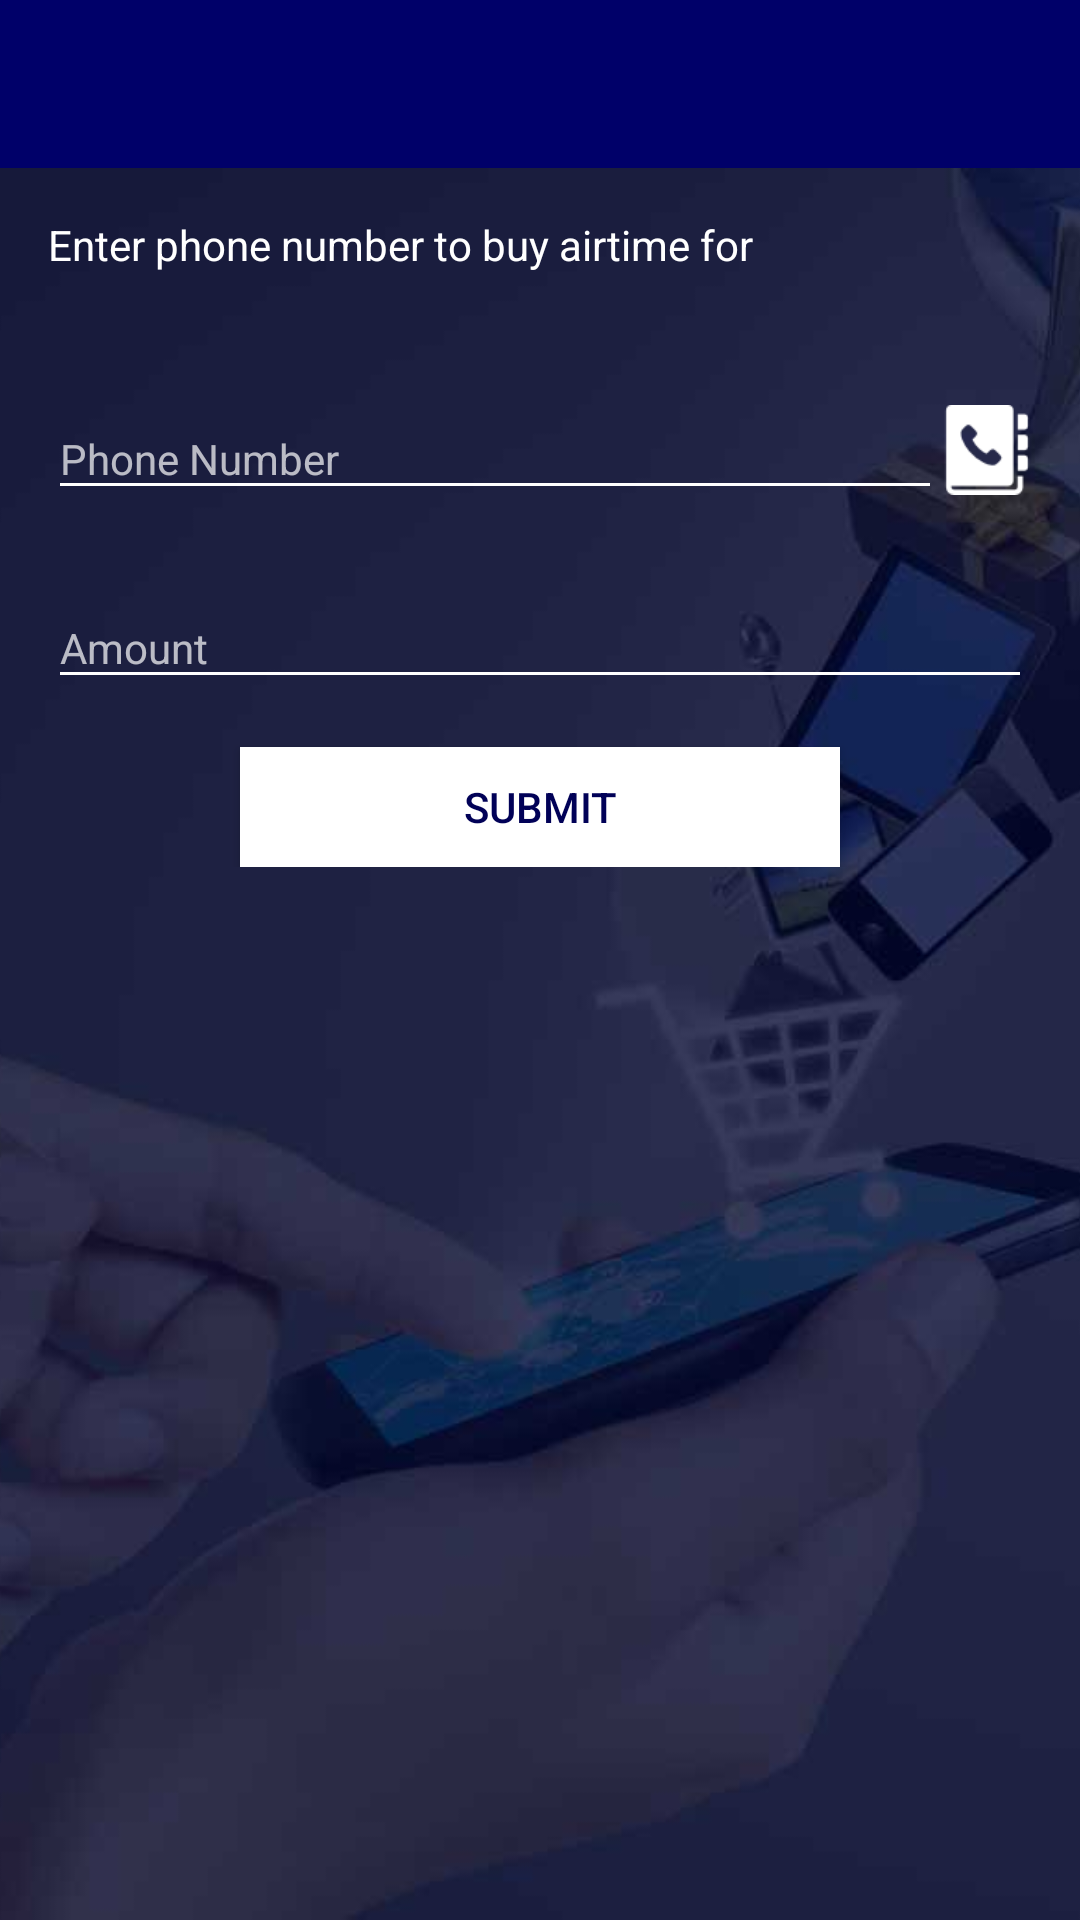

Icon bounding boxes for this 1080 × 1920 phone screenshot, format box=[x1, y1, x2, y2]:
phonebook: box=[945, 405, 1032, 495]
